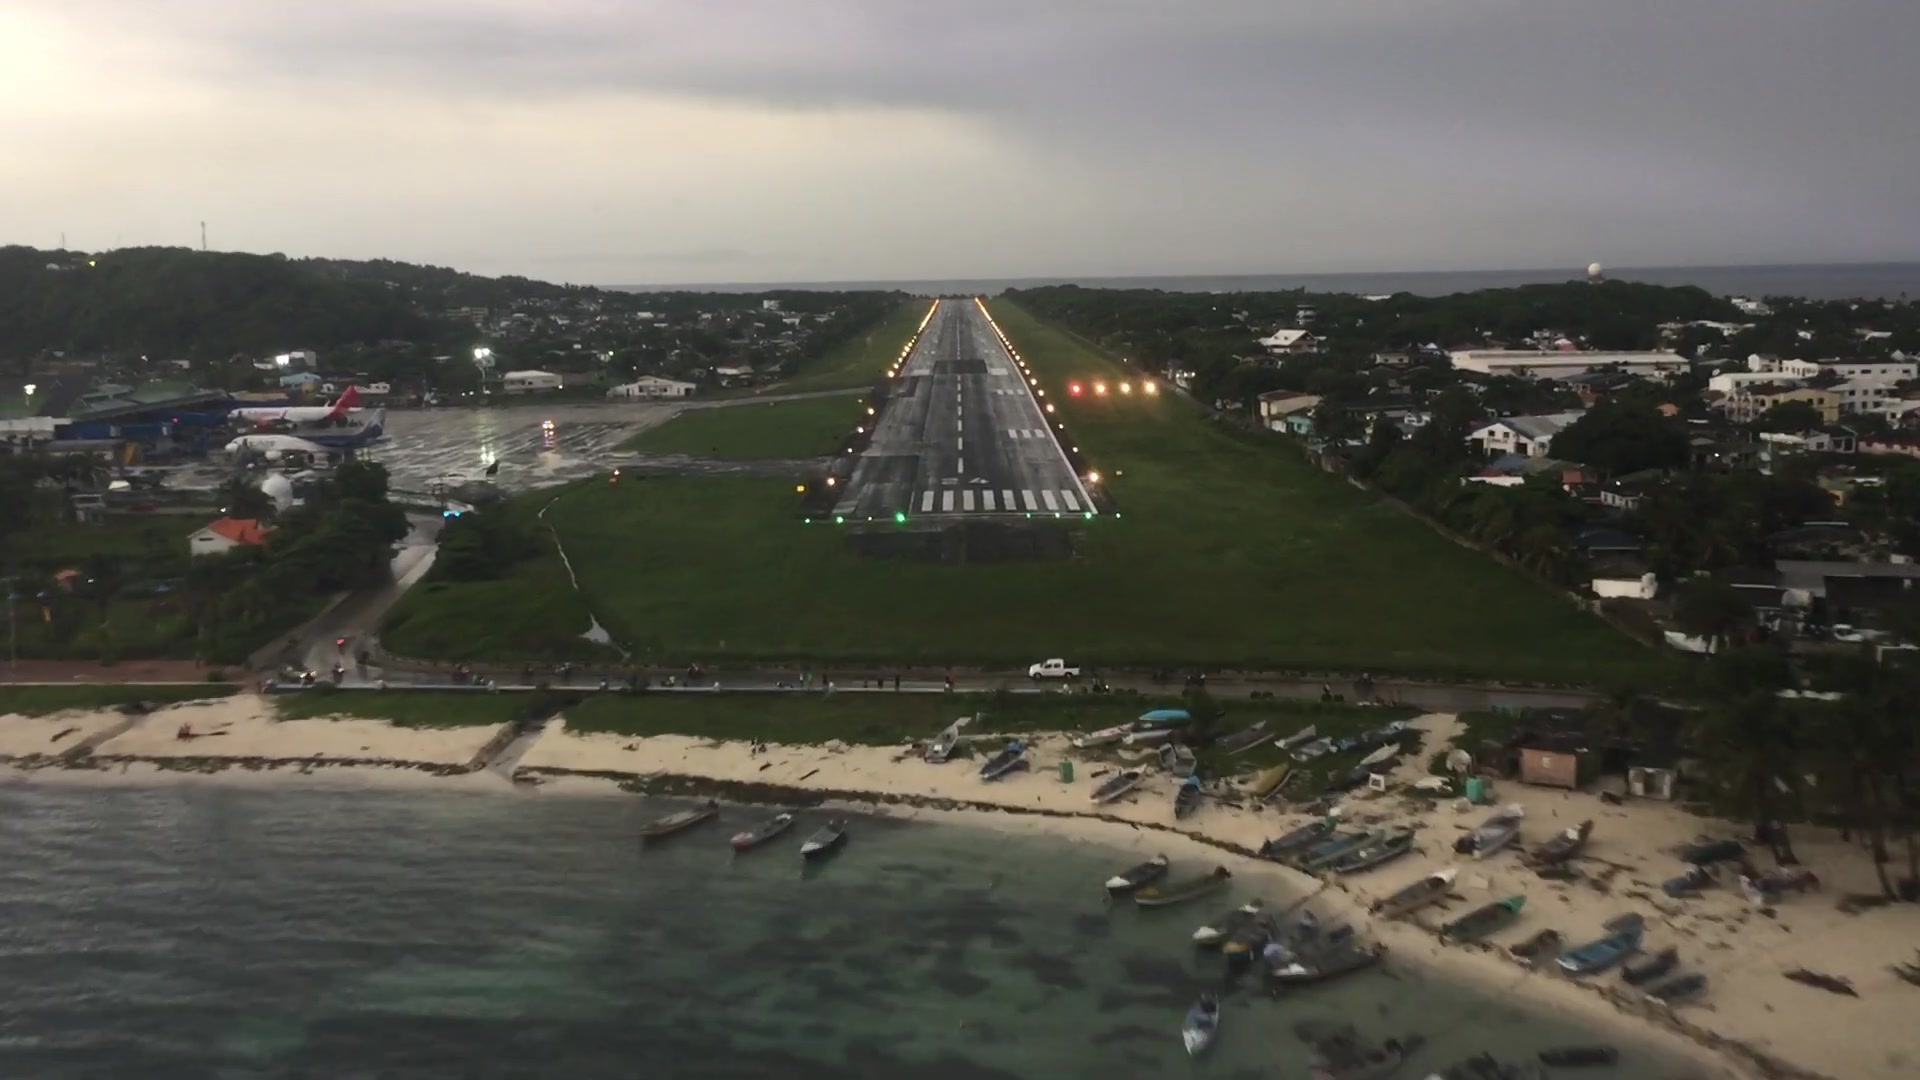entrance: (920, 489, 1081, 512)
runway: (814, 295, 1108, 522)
